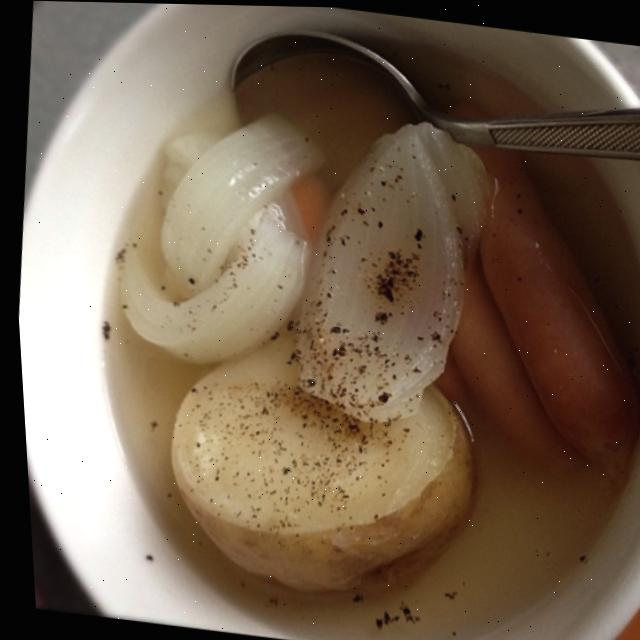汤锅炖物: (22, 0, 640, 640)
